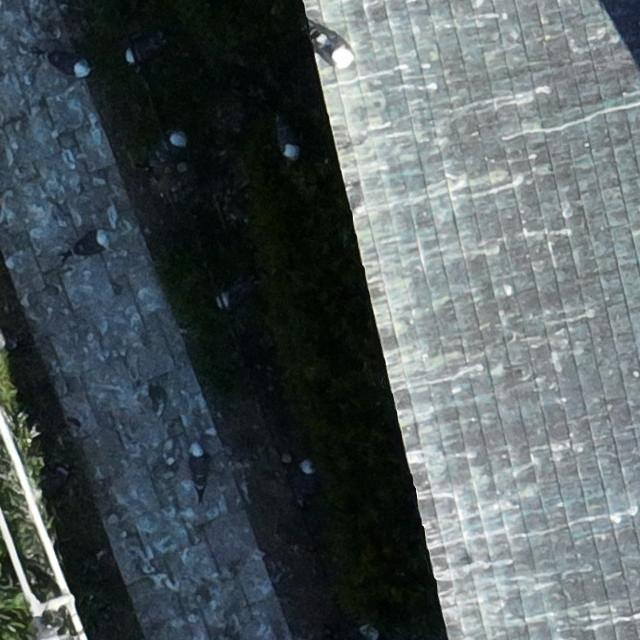umineko: (310, 23, 353, 72), (126, 38, 160, 62), (49, 54, 86, 74), (74, 232, 107, 254), (296, 461, 315, 497), (191, 448, 207, 488), (278, 125, 296, 157)
